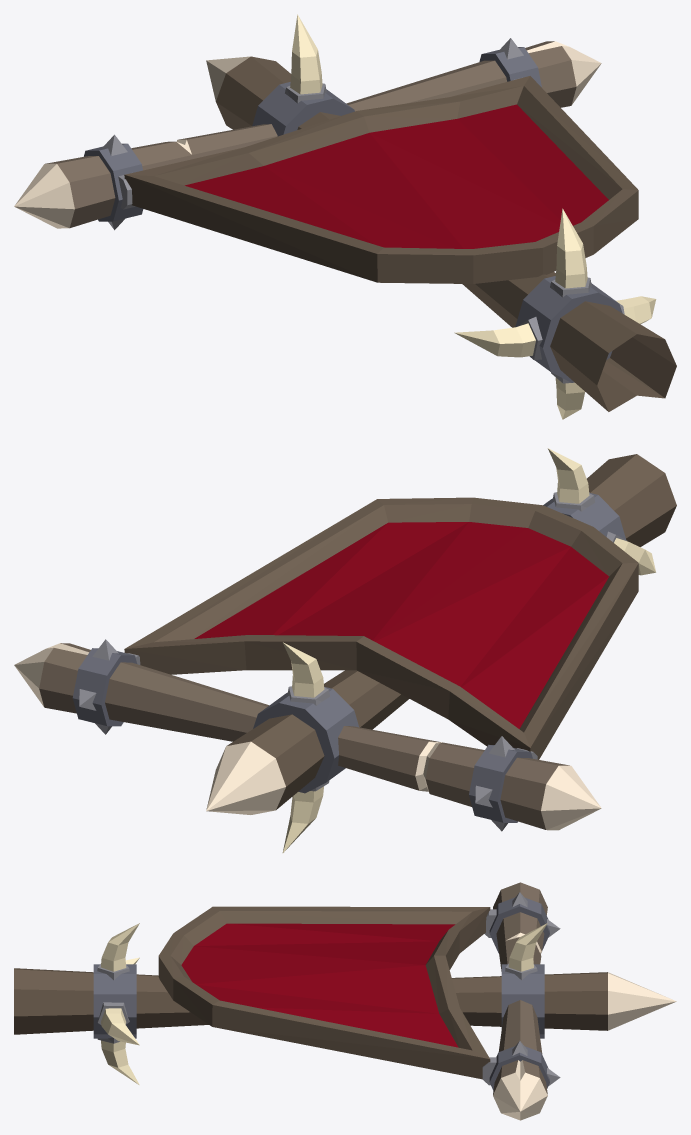
File: flag.glb
3 renders of one model, top to bottom at view 1: azimuth 30°, elevation 25°; view 2: azimuth 150°, elevation 25°; view 3: azimuth 270°, elevation 25°, orthographic. The views are drawn at different scales.
Parts seen in each view (by area): view 1: flag; view 2: flag; view 3: flag.
Part boxes in pixels (bbox=[...]): flag: bbox=[14, 14, 676, 419]; flag: bbox=[14, 448, 676, 853]; flag: bbox=[14, 882, 676, 1120].
Size of the model in its own units: 1.89 by 0.651 by 2.4.
1 material, 1 textured.
